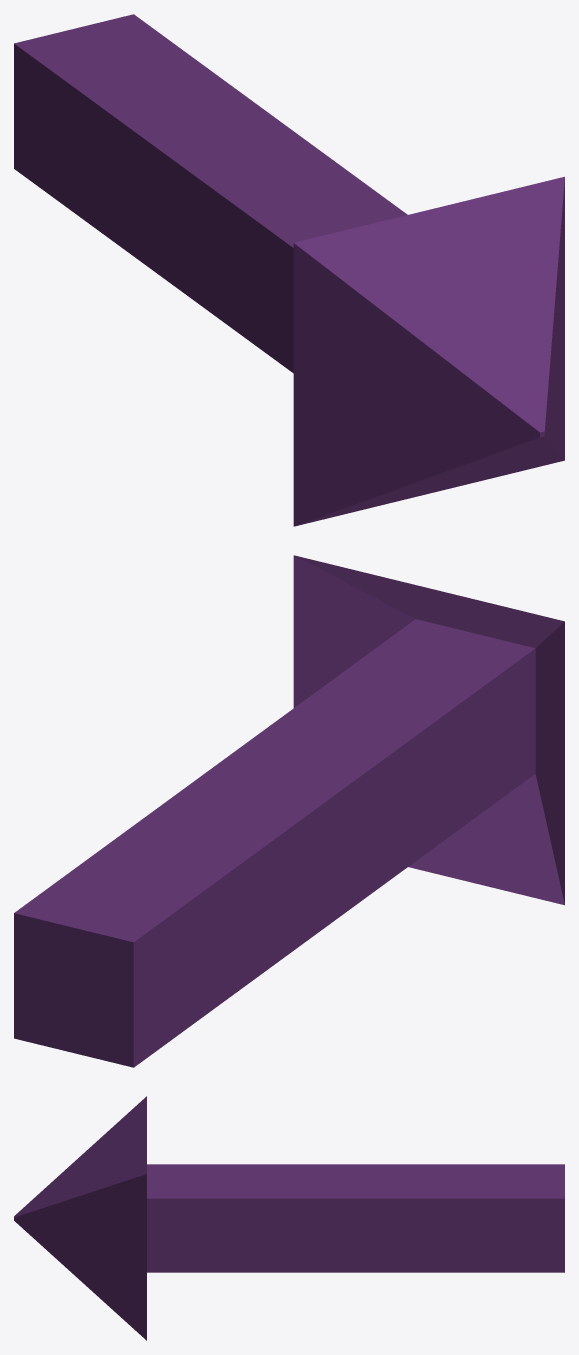
Rendered from ArrowChessingina.fbx.
The picture shows the model from 3 angles, top to bottom: view 1: azimuth 30°, elevation 25°; view 2: azimuth 150°, elevation 25°; view 3: azimuth 270°, elevation 25°; orthographic projection. The views are drawn at different scales.
Parts seen in each view (by area): view 1: Arrow; view 2: Arrow; view 3: Arrow.
Boxes of the visible parts, left/top/right/bottom form: Arrow: left=14, top=14, right=564, bottom=526; Arrow: left=14, top=555, right=564, bottom=1067; Arrow: left=14, top=1096, right=564, bottom=1340.
Size of the model in its own units: 17.83 by 17.83 by 53.33.
